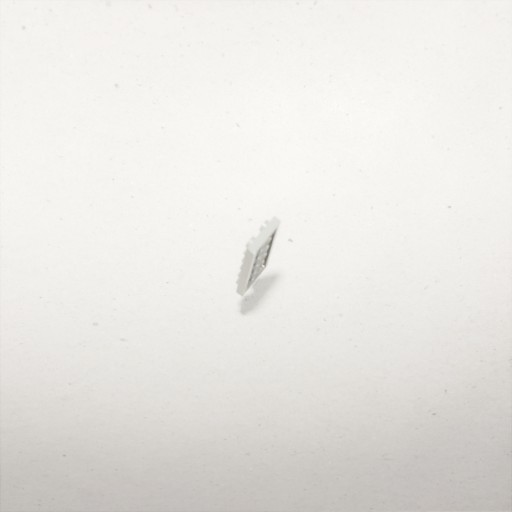lego: (235, 215, 282, 297)
